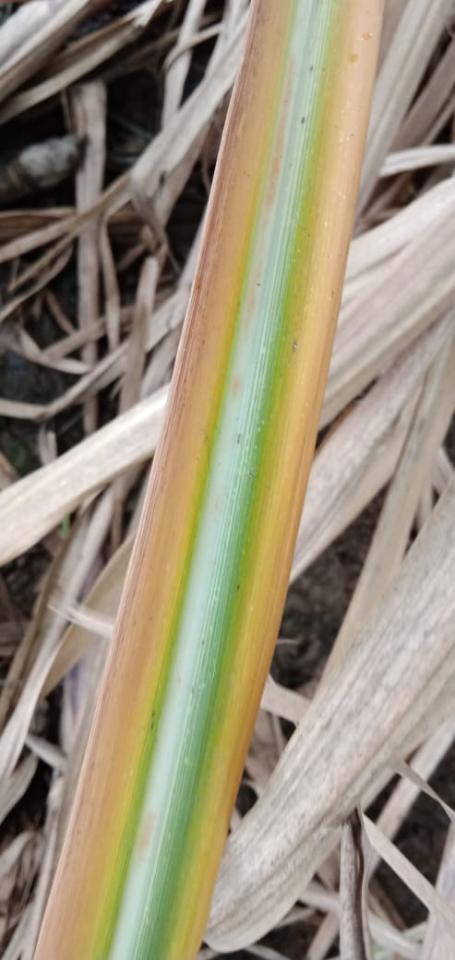RedRot: (243, 56, 297, 343), (136, 810, 157, 867), (230, 377, 244, 398)
Rust: (290, 339, 298, 354), (234, 433, 244, 445), (299, 116, 307, 126), (307, 65, 314, 74), (235, 583, 242, 592), (151, 710, 157, 719), (150, 723, 155, 731)
Yellow: (29, 0, 293, 959), (169, 0, 385, 959)
